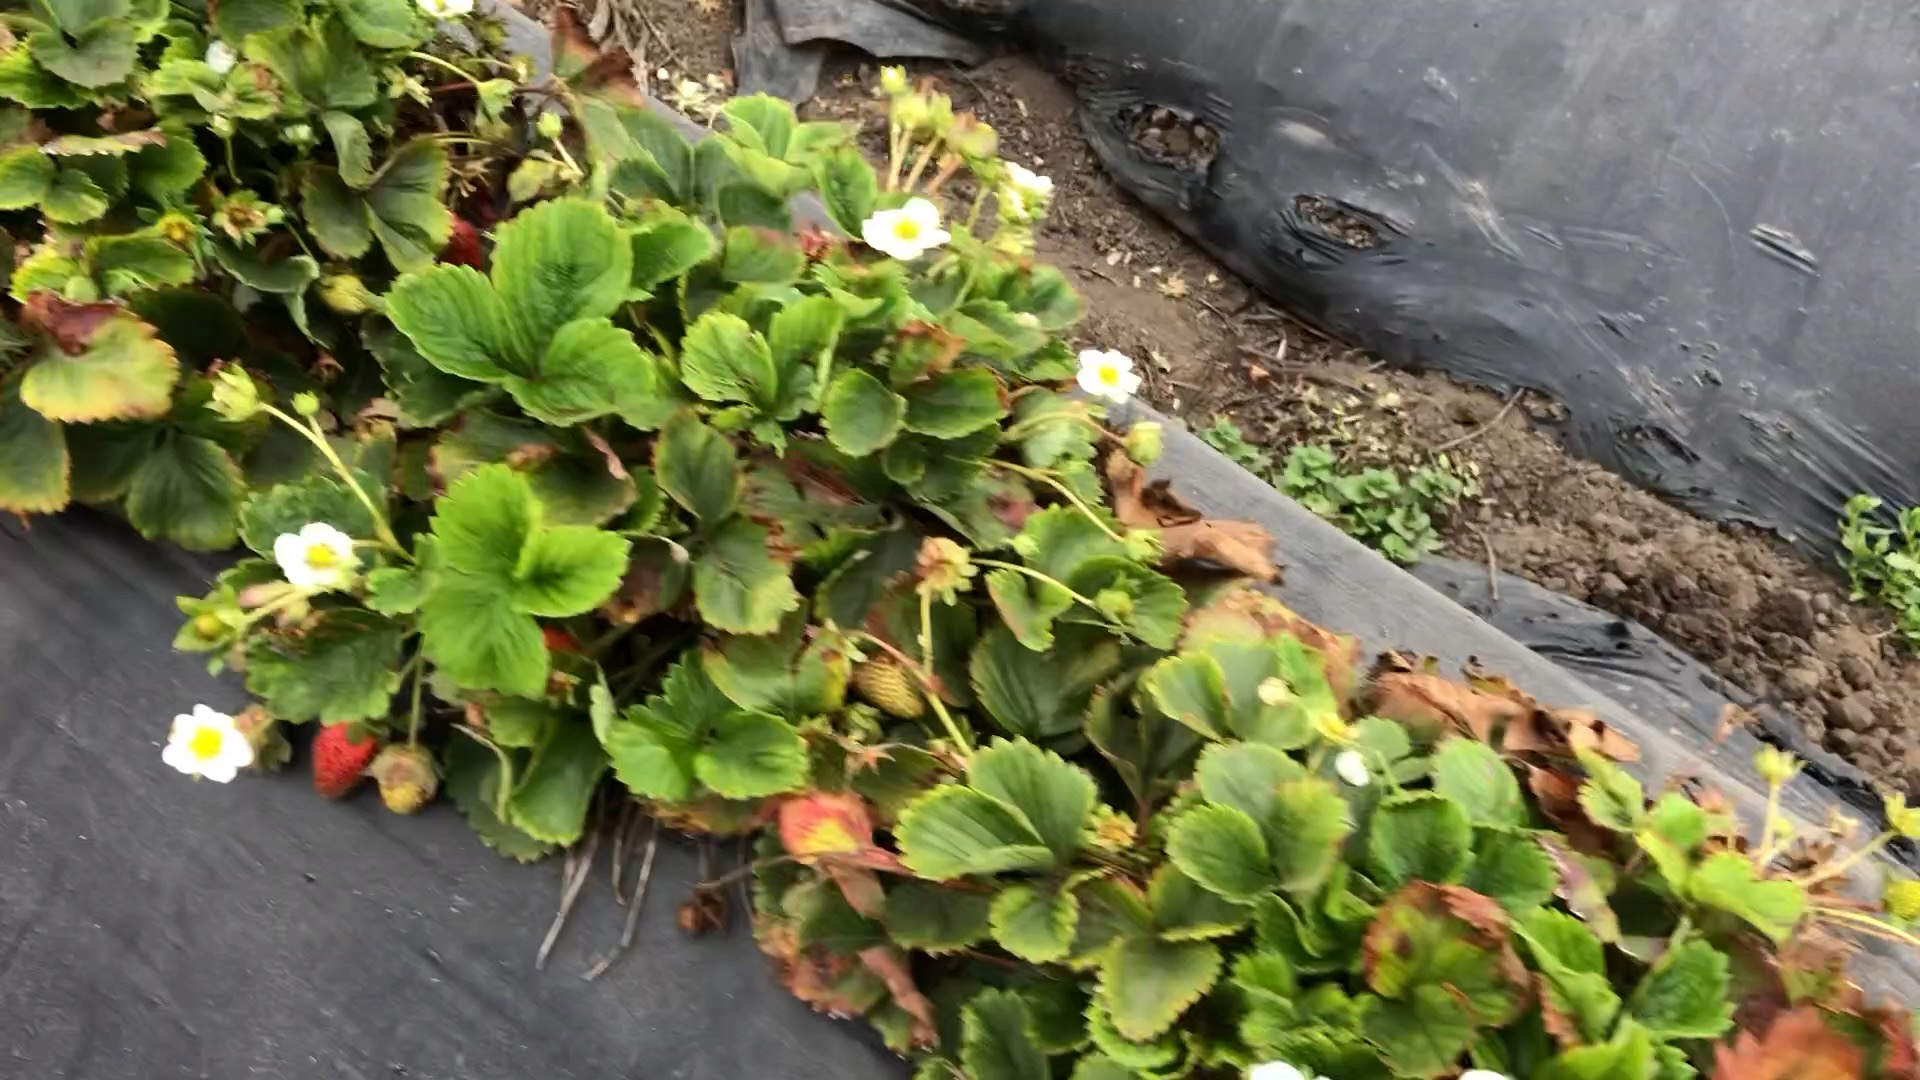ripe_strawberry: (309, 717, 378, 804), (436, 214, 488, 272)
unripe_strawberry: (852, 653, 928, 721), (377, 745, 436, 816)
